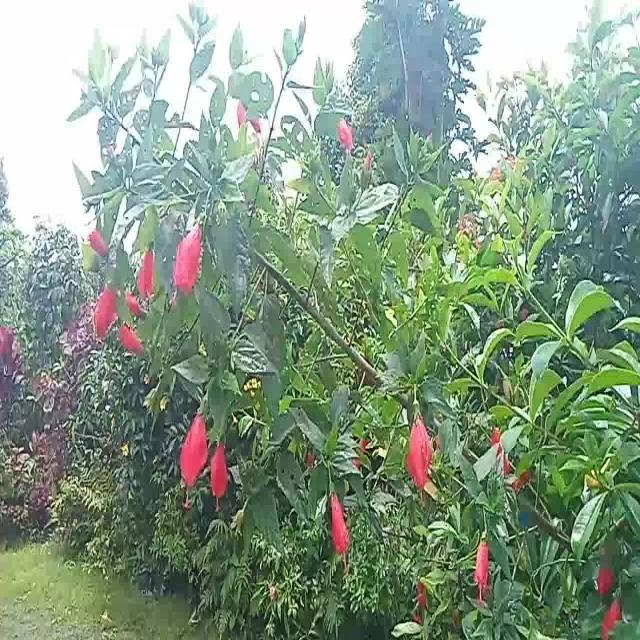Flower: (405, 401, 436, 507), (181, 402, 209, 492), (325, 483, 354, 559), (177, 222, 201, 297), (97, 274, 120, 351), (473, 531, 495, 606), (138, 243, 158, 318), (212, 438, 228, 499), (337, 113, 355, 156)
